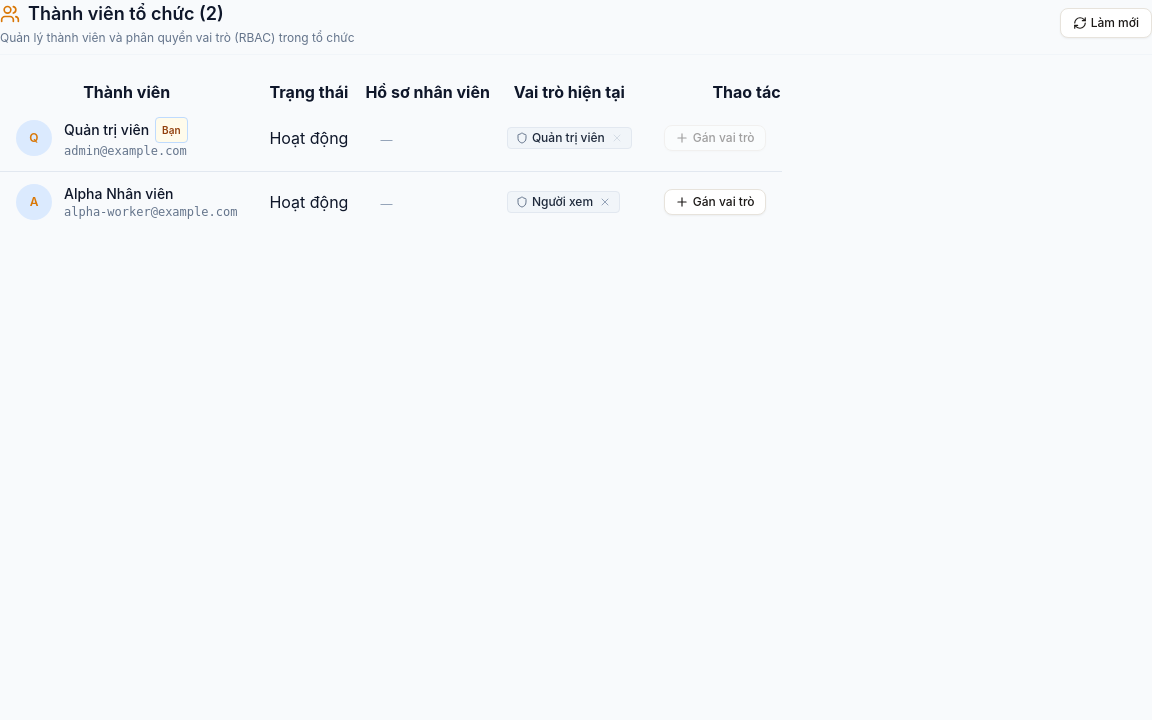
Test: DXOS-QA-001: Frontend QA & Release Candidate Audit Tests › displays empty catalog message and disables confirm button when organization has 0 roles
Expected: the text "Alpha Nhân viên" is shown, left=64, top=184, right=174, bottom=204
Click the button "Gán vai trò" in the row of "Alpha Nhân viên": [715, 202] box left=664, top=189, right=766, bottom=215
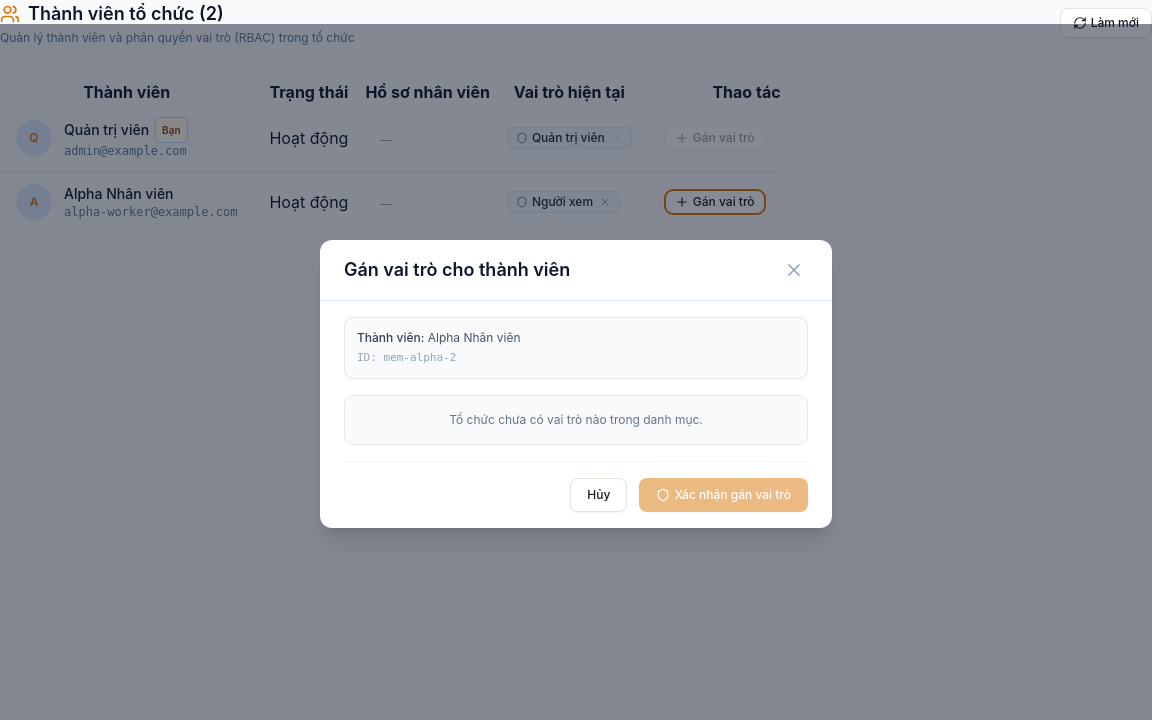
Result: the text "Tổ chức chưa có vai trò nào trong danh mục." is shown at left=344, top=395, right=808, bottom=445
Result: the button "Xác nhận gán vai trò" is disabled at left=639, top=478, right=808, bottom=512
